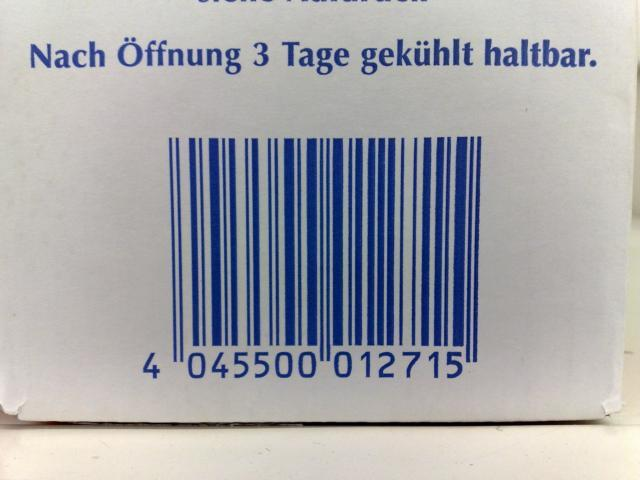Barcode: (123, 118, 512, 395)
